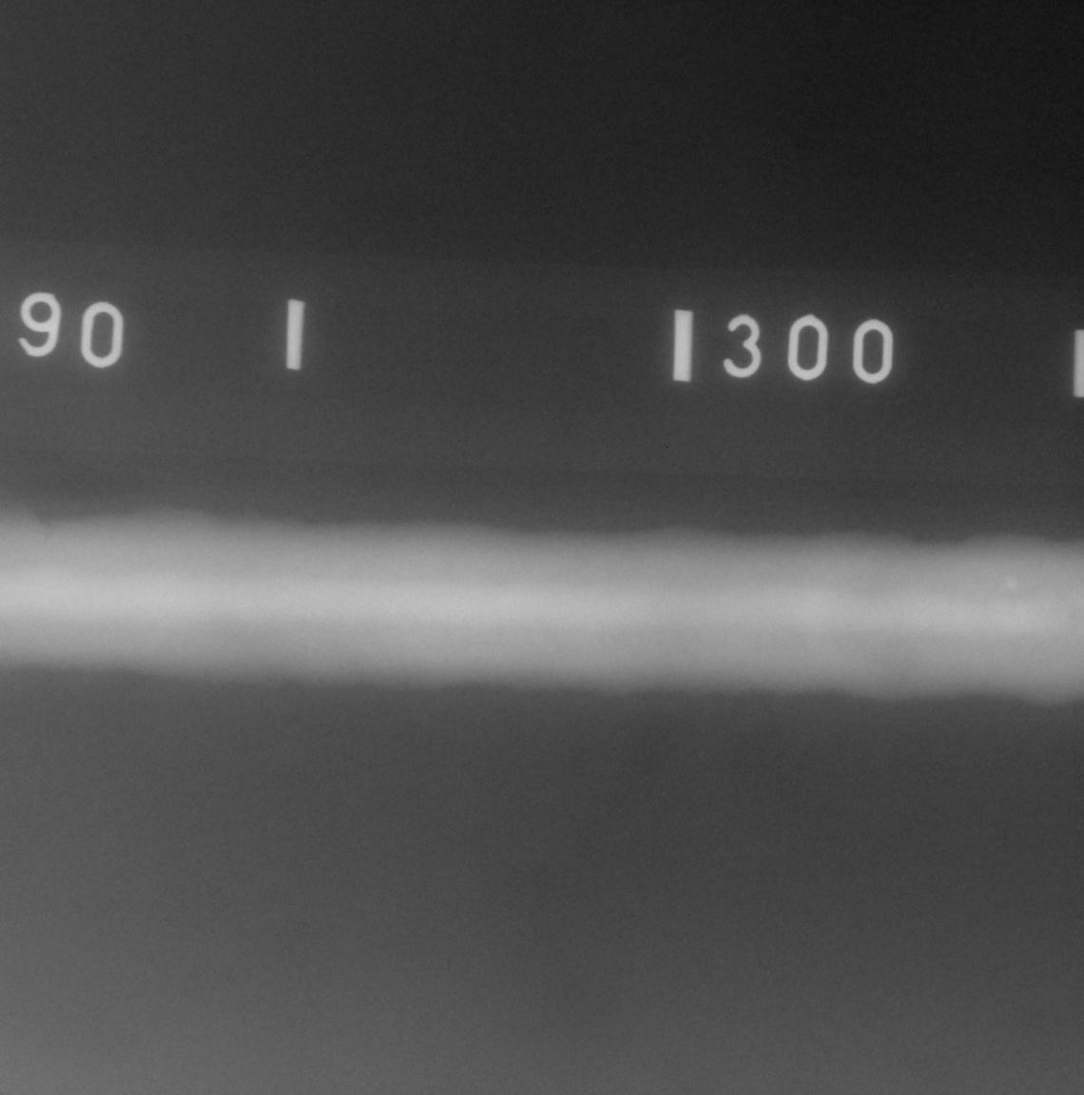Inclusion: (312, 572, 317, 579)
